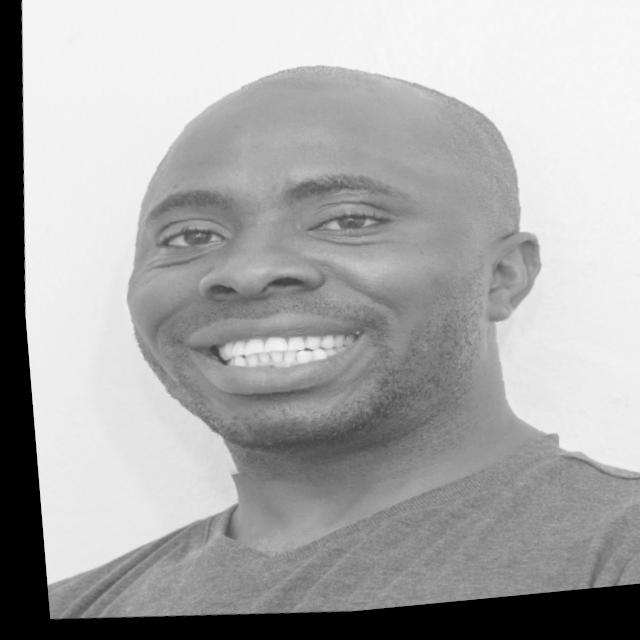happy: (81, 14, 575, 508)
